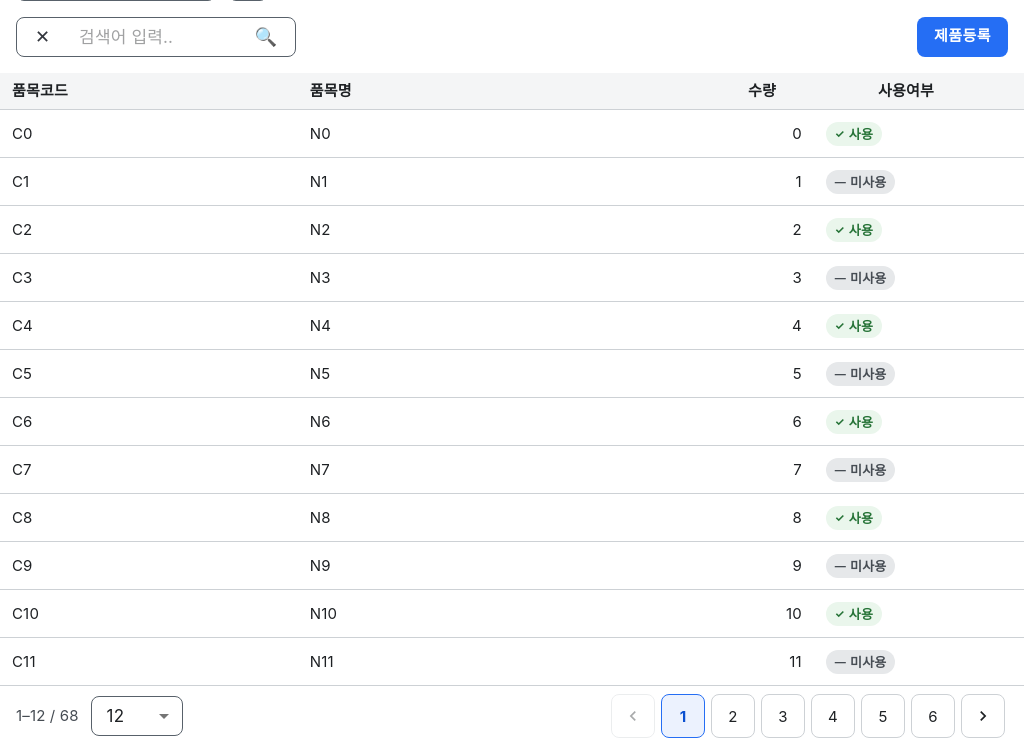
Test: MjGrid (dialog mode) › pager click requests pageNum with the same pageSize
The width and height of the screenshot is (1024, 753).
(page scrolled)
Expected: the column heading "C0" is shown, [0,110,298,158]
Click the button named "Go to page 3": (783, 716) [761,694,805,738]
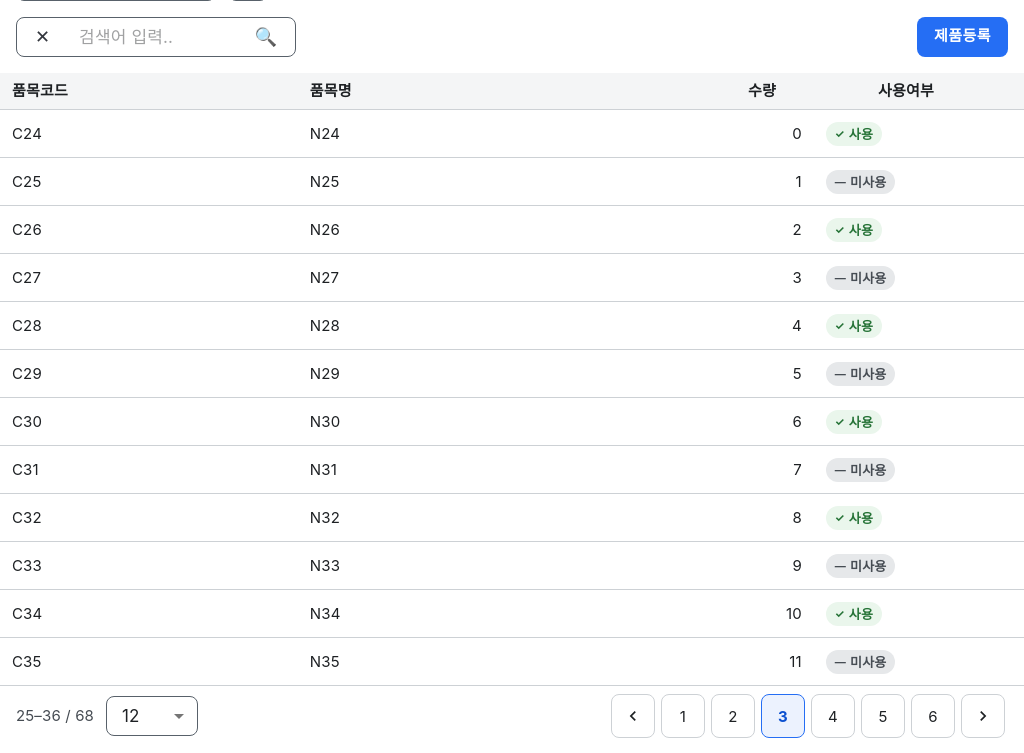
Expected: the column heading "C24" is shown, [0,110,298,158]
Expected: the text "25–36 / 68" is shown, [16,705,94,728]
